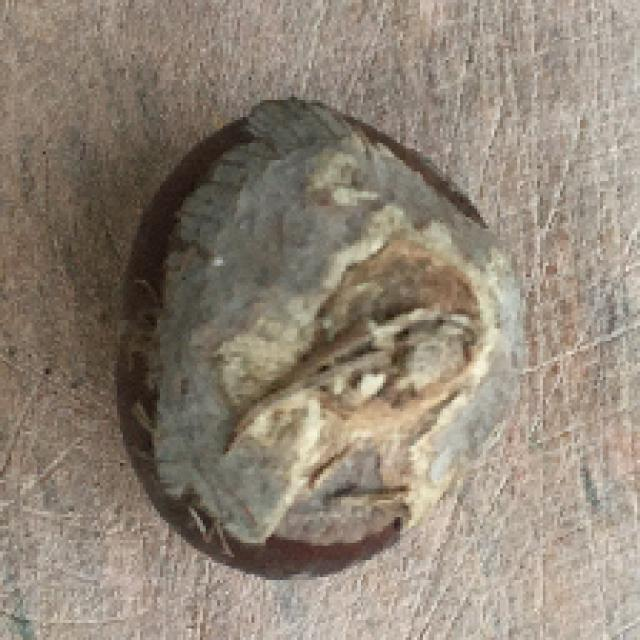DamagedHazelnut: (115, 98, 535, 585)
